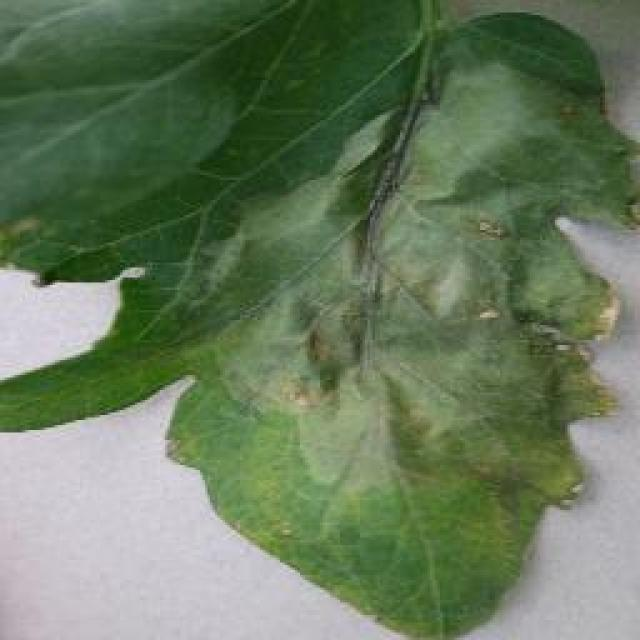Tomato late blight leaf: (181, 15, 631, 633), (0, 5, 425, 427)
